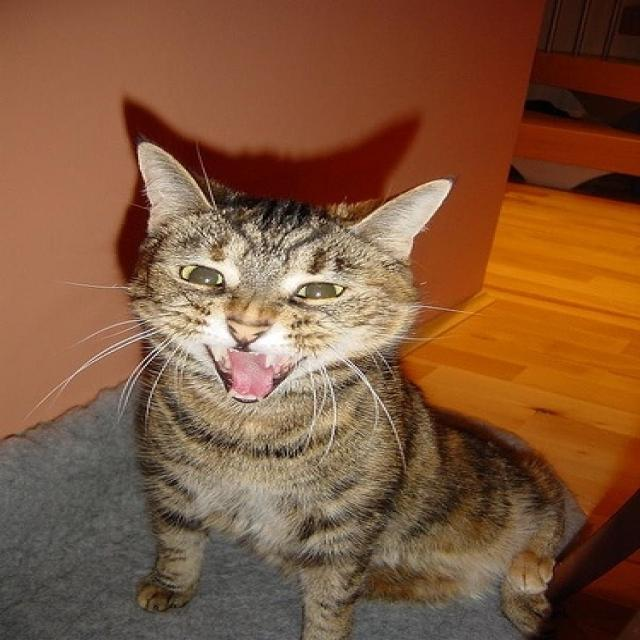cat: (126, 143, 568, 639)
